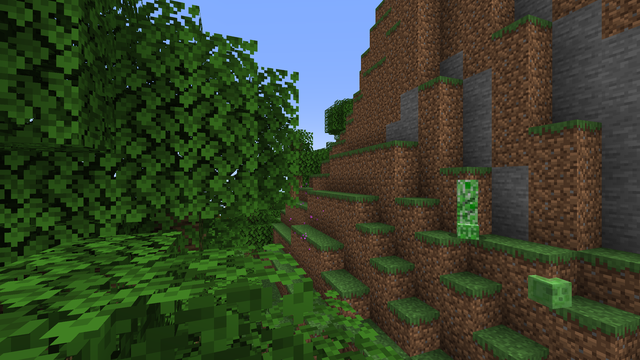creepers: (450, 177, 483, 239)
slimes: (527, 273, 571, 309)
